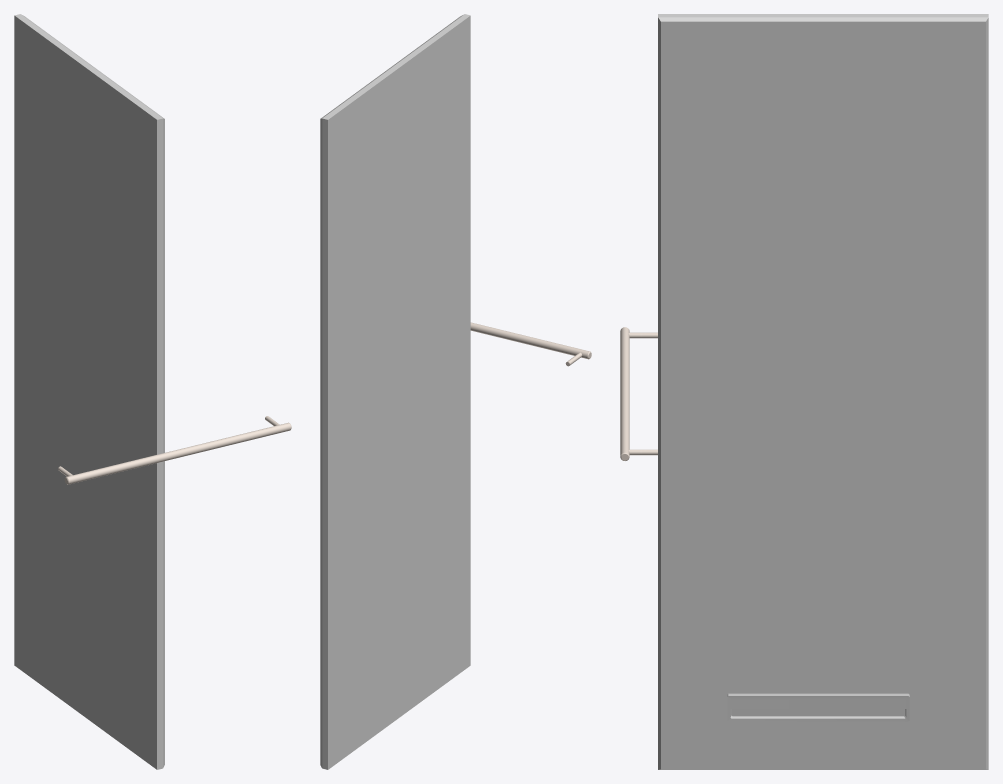
The model's file is Cabinet_09725102.obj.
3 views of the same model, side by side, from view 1: azimuth 30°, elevation 25°; view 2: azimuth 150°, elevation 25°; view 3: azimuth 270°, elevation 25° (orthographic). The views are drawn at different scales.
Parts seen in each view (by area): view 1: Mesh_d033a73a, handle_1_305mm_d033a73a; view 2: Mesh_d033a73a, handle_1_305mm_d033a73a; view 3: Mesh_d033a73a, handle_1_305mm_d033a73a.
Part boxes in pixels (left/top/right/bottom): Mesh_d033a73a: left=14, top=14, right=164, bottom=769; handle_1_305mm_d033a73a: left=58, top=416, right=291, bottom=484; Mesh_d033a73a: left=320, top=14, right=470, bottom=769; handle_1_305mm_d033a73a: left=470, top=322, right=591, bottom=366; Mesh_d033a73a: left=658, top=14, right=988, bottom=769; handle_1_305mm_d033a73a: left=620, top=327, right=657, bottom=460.
Bounding box in the file's own units: 0.305 × 0.8472 × 0.3757.
